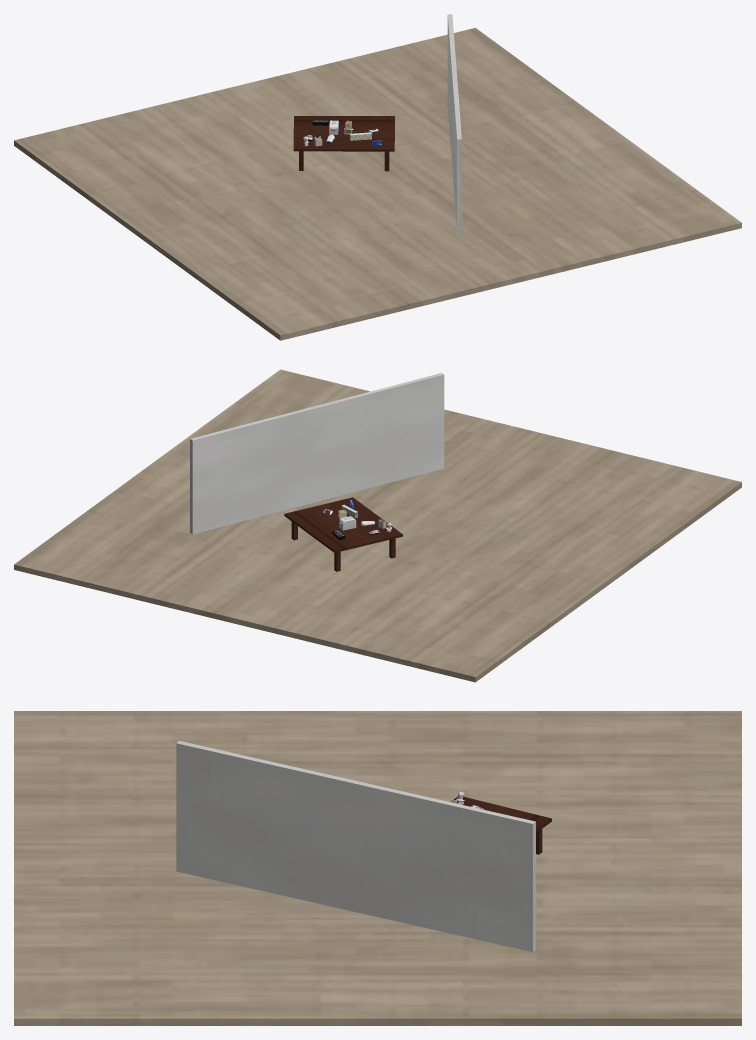
The model's file is ours.glb.
The picture shows the model from 3 angles, top to bottom: view 1: azimuth 30°, elevation 25°; view 2: azimuth 150°, elevation 25°; view 3: azimuth 270°, elevation 25°; orthographic projection. The views are drawn at different scales.
Parts seen in each view (by area): view 1: floor_0, table_0, wall_0; view 2: floor_0, wall_0, table_0; view 3: floor_0, wall_0, table_0.
Boxes of the visible parts, x1,y1,x2,y2 form: floor_0: (14,28,741,340); table_0: (293,116,394,171); wall_0: (447,14,461,233); floor_0: (14,369,741,682); wall_0: (190,373,444,534); table_0: (284,497,402,571); floor_0: (14,711,741,1025); wall_0: (176,741,535,952); table_0: (453,796,551,854).
Size of the model in its own units: 9 by 1.85 by 9.
14 materials, 14 textured.
